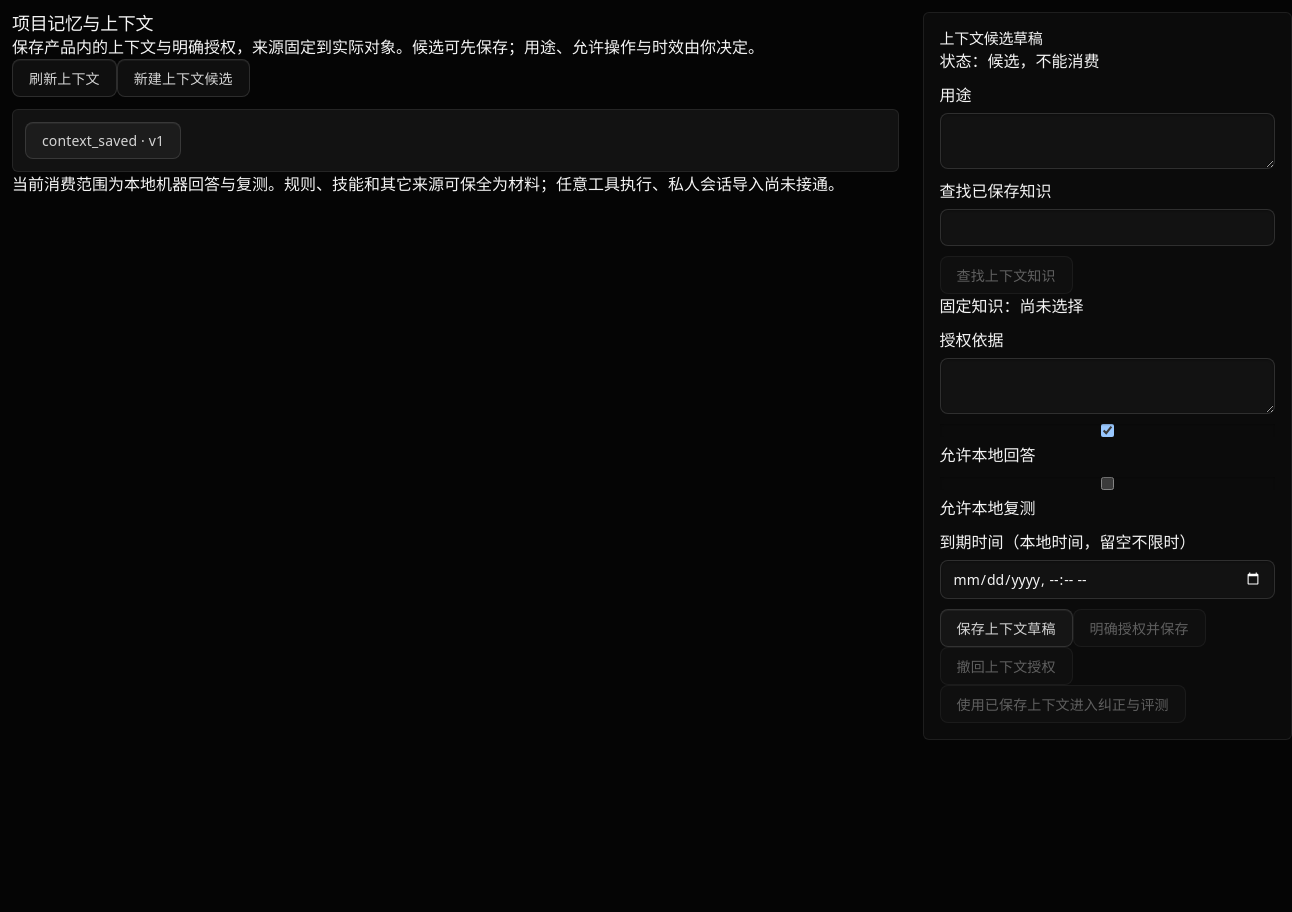
Test: readback with matching grant but altered owner data cannot qualify a save or consumption
The width and height of the screenshot is (1292, 912).
Click the button "context_saved · v1": (103, 140) [25,122,181,158]
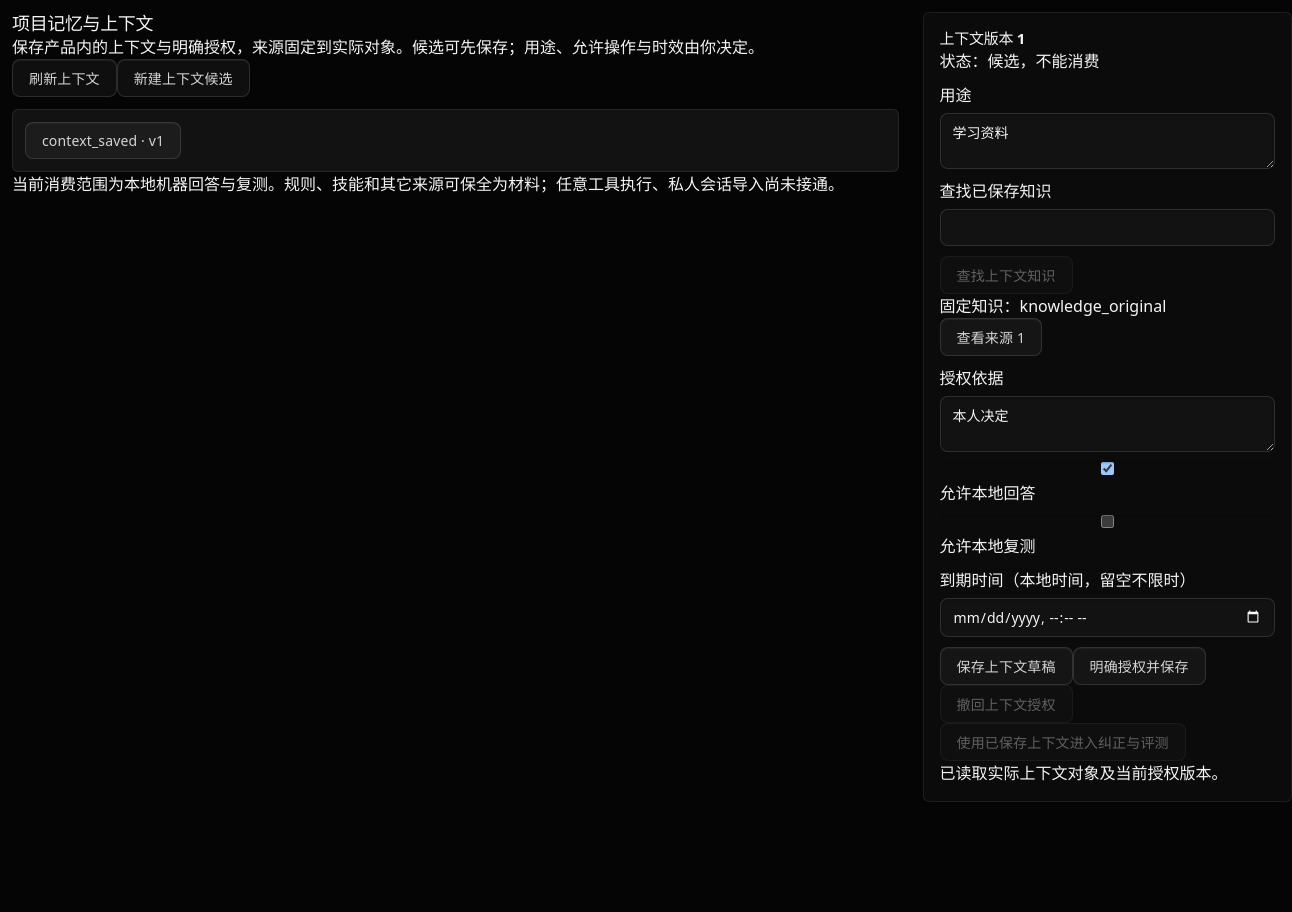
Check: the text box labelled "用途" holds "学习资料", box [940,112,1275,168]
Click the button "明确授权并保存": (1139, 666) [1073,646,1206,684]
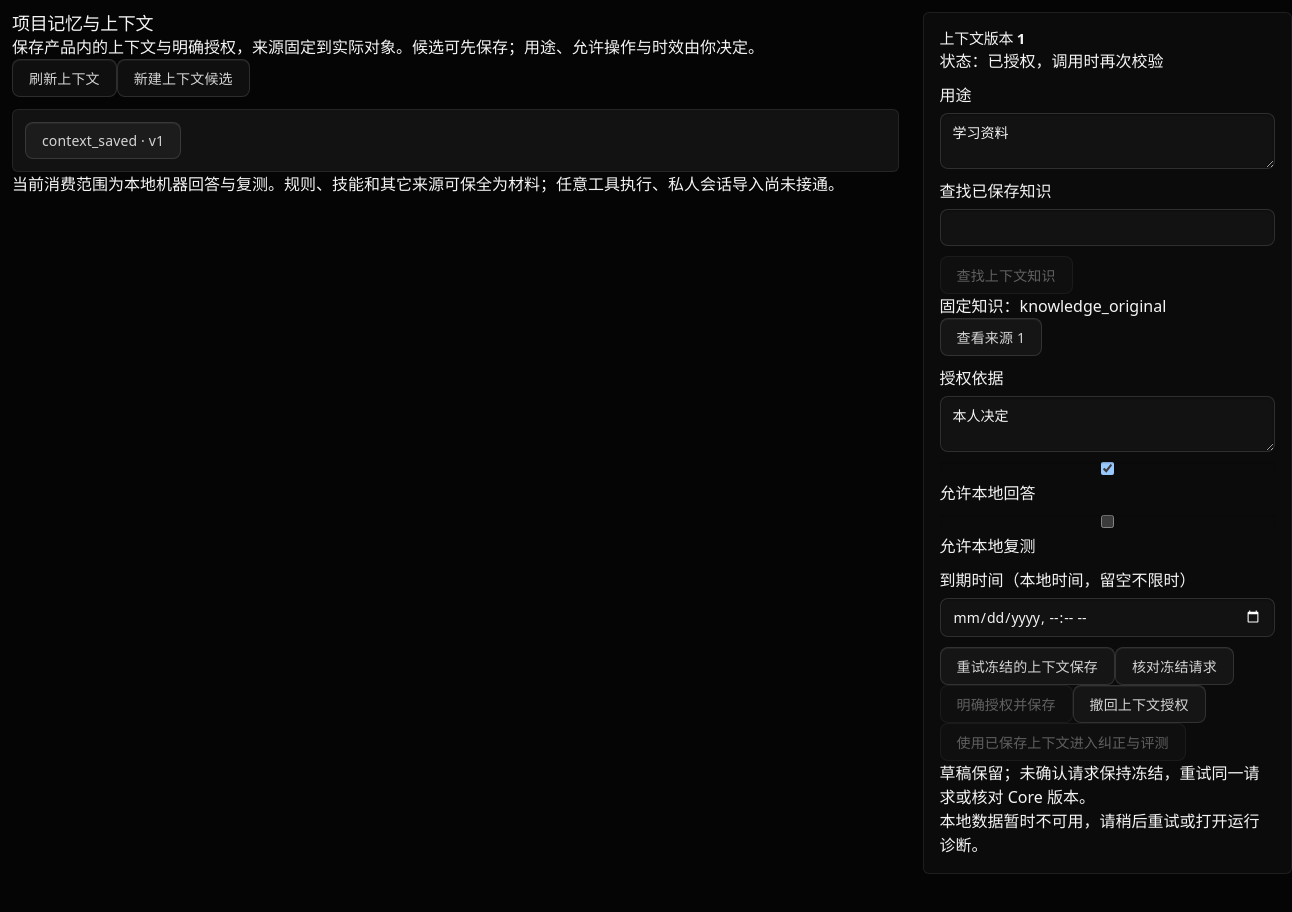
Check: the button "使用已保存上下文进入纠正与评测" is disabled, box [940,722,1186,760]
Check: the message "本地数据暂时不可用，请稍后重试或打开运行诊断。" is shown, box [940,808,1275,856]
Check: the button "核对冻结请求" is shown, box [1115,646,1234,684]
